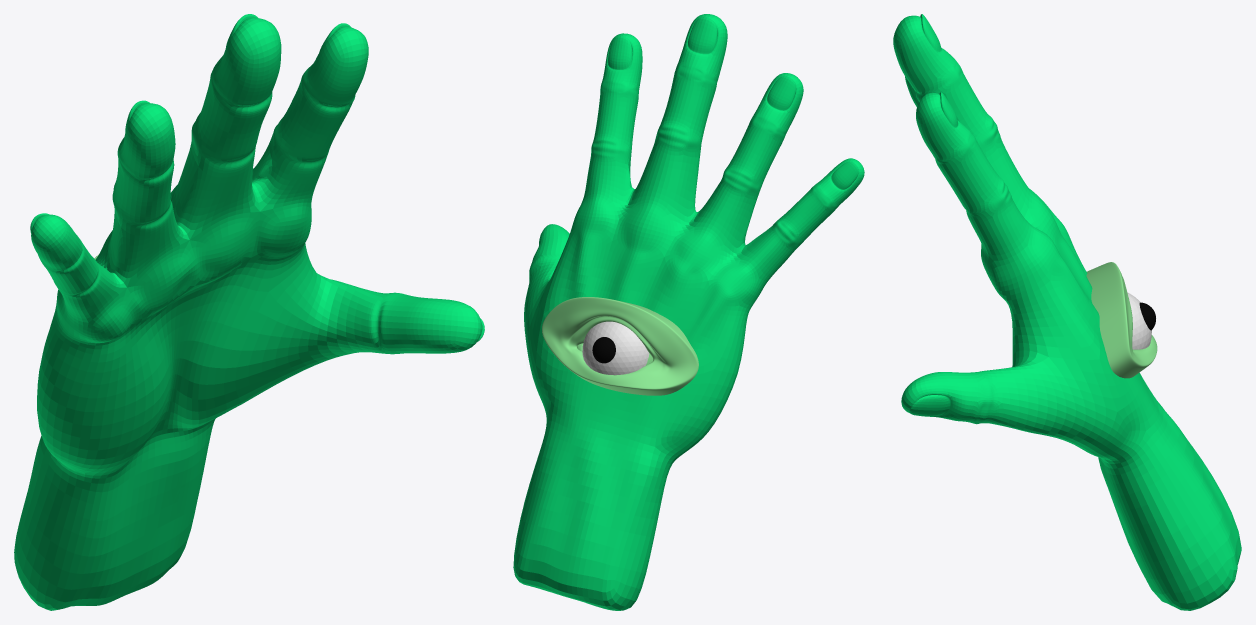
File: manoOjo.fbx
3 renders of one model, left to right at view 1: azimuth 30°, elevation 25°; view 2: azimuth 150°, elevation 25°; view 3: azimuth 270°, elevation 25°, orthographic. The views are drawn at different scales.
Parts seen in each view (by area): view 1: 16837_eye_v2_NEW; view 2: 16837_eye_v2_NEW; view 3: 16837_eye_v2_NEW.
Boxes of the visible parts, x1,y1,x2,y2 form: 16837_eye_v2_NEW: (14,14,484,610); 16837_eye_v2_NEW: (513,14,864,610); 16837_eye_v2_NEW: (893,14,1241,610).
Size of the model in its own units: 334 by 497 by 274.
